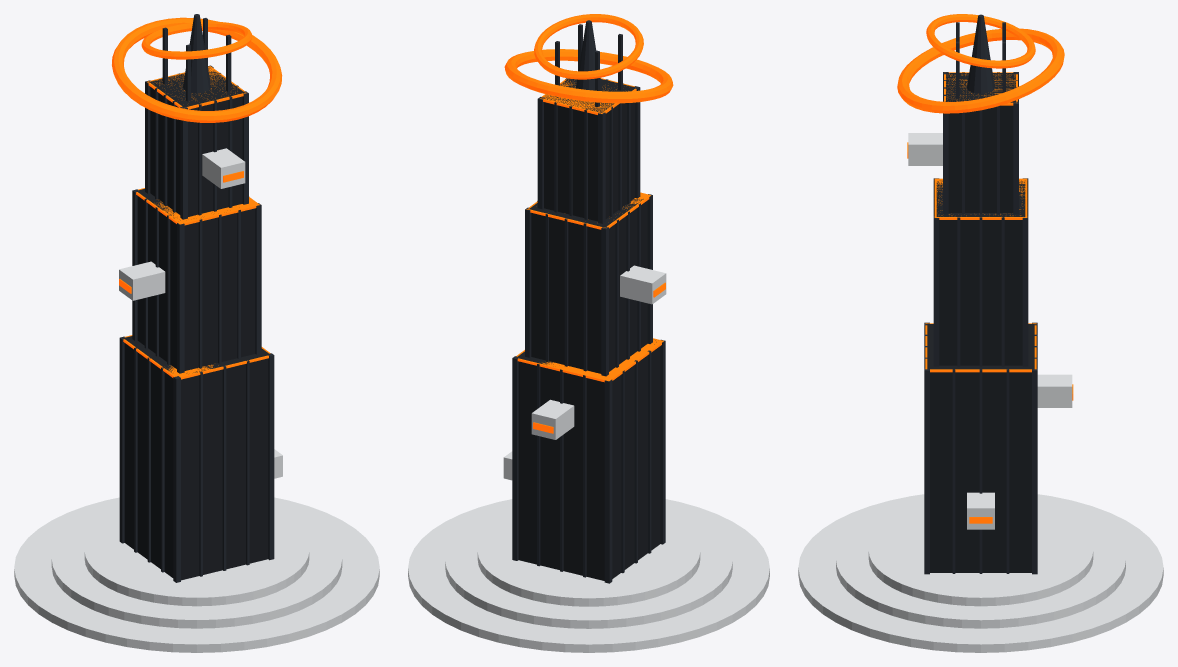
File: shaddai_landmark_anvil_v01.glb
3 renders of one model, left to right at view 1: azimuth 30°, elevation 25°; view 2: azimuth 150°, elevation 25°; view 3: azimuth 270°, elevation 25°, orthographic.
Visible parts, largest first — view 1: landmark_anvil; view 2: landmark_anvil; view 3: landmark_anvil.
Part boxes in pixels (x1,y1,x2,y2): landmark_anvil: (14, 14, 379, 652); landmark_anvil: (408, 14, 769, 652); landmark_anvil: (798, 14, 1163, 652).
Size of the model in its own units: 156 by 264 by 156.
